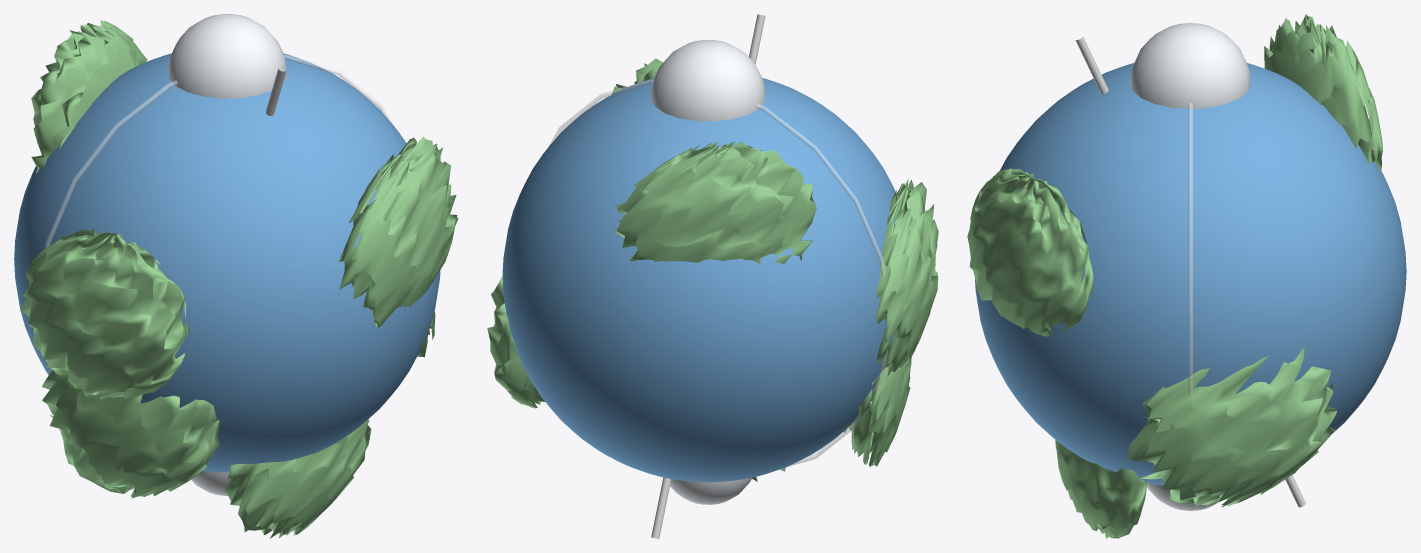
Rendered from globe.glb.
The picture shows the model from 3 angles, left to right: view 1: azimuth 30°, elevation 25°; view 2: azimuth 150°, elevation 25°; view 3: azimuth 270°, elevation 25°; orthographic projection. The views are drawn at different scales.
Parts seen in each view (by area): view 1: ocean, continent_6, continent_4, continent_1, continent_5, continent_2, north_pole_ice, equator, south_pole_ice; view 2: ocean, continent_2, continent_6, north_pole_ice, continent_4, continent_3, equator, south_pole_ice, rotation_axis; view 3: ocean, continent_3, continent_1, continent_2, north_pole_ice, continent_5, equator, rotation_axis, south_pole_ice.
Part boxes in pixels (left/top/right/bottom): ocean: left=14, top=53, right=440, bottom=472; continent_6: left=20, top=228, right=189, bottom=399; continent_4: left=41, top=370, right=219, bottom=498; continent_1: left=339, top=136, right=458, bottom=327; continent_5: left=224, top=419, right=371, bottom=538; continent_2: left=31, top=20, right=147, bottom=172; north_pole_ice: left=168, top=14, right=286, bottom=98; equator: left=45, top=55, right=392, bottom=372; south_pole_ice: left=191, top=471, right=230, bottom=495; ocean: left=502, top=78, right=896, bottom=482; continent_2: left=615, top=141, right=816, bottom=264; continent_6: left=875, top=178, right=938, bottom=376; north_pole_ice: left=651, top=40, right=765, bottom=121; continent_4: left=843, top=357, right=911, bottom=466; continent_3: left=487, top=276, right=544, bottom=408; equator: left=549, top=79, right=887, bottom=467; south_pole_ice: left=670, top=477, right=751, bottom=504; rotation_axis: left=651, top=14, right=765, bottom=538; ocean: left=975, top=63, right=1406, bottom=485; continent_3: left=1128, top=346, right=1336, bottom=507; continent_1: left=967, top=168, right=1093, bottom=336; continent_2: left=1264, top=14, right=1383, bottom=175; north_pole_ice: left=1130, top=23, right=1250, bottom=108; continent_5: left=1055, top=440, right=1147, bottom=538; equator: left=1188, top=103, right=1192, bottom=396; rotation_axis: left=1075, top=36, right=1305, bottom=507; south_pole_ice: left=1147, top=483, right=1218, bottom=510.
Size of the model in its own units: 1.1 by 1.3 by 1.05.
